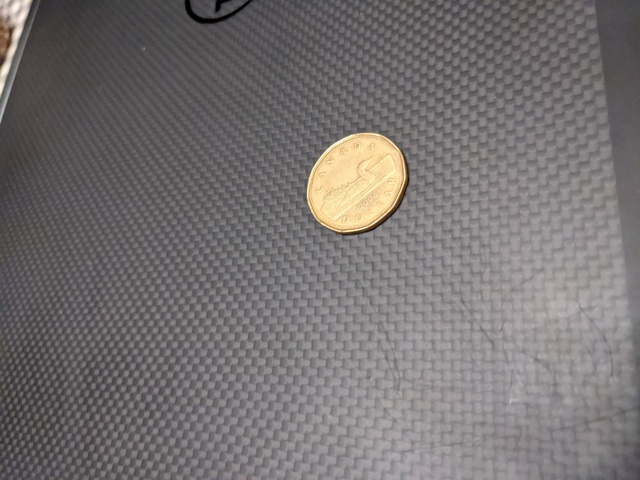loonie: (298, 129, 429, 246)
